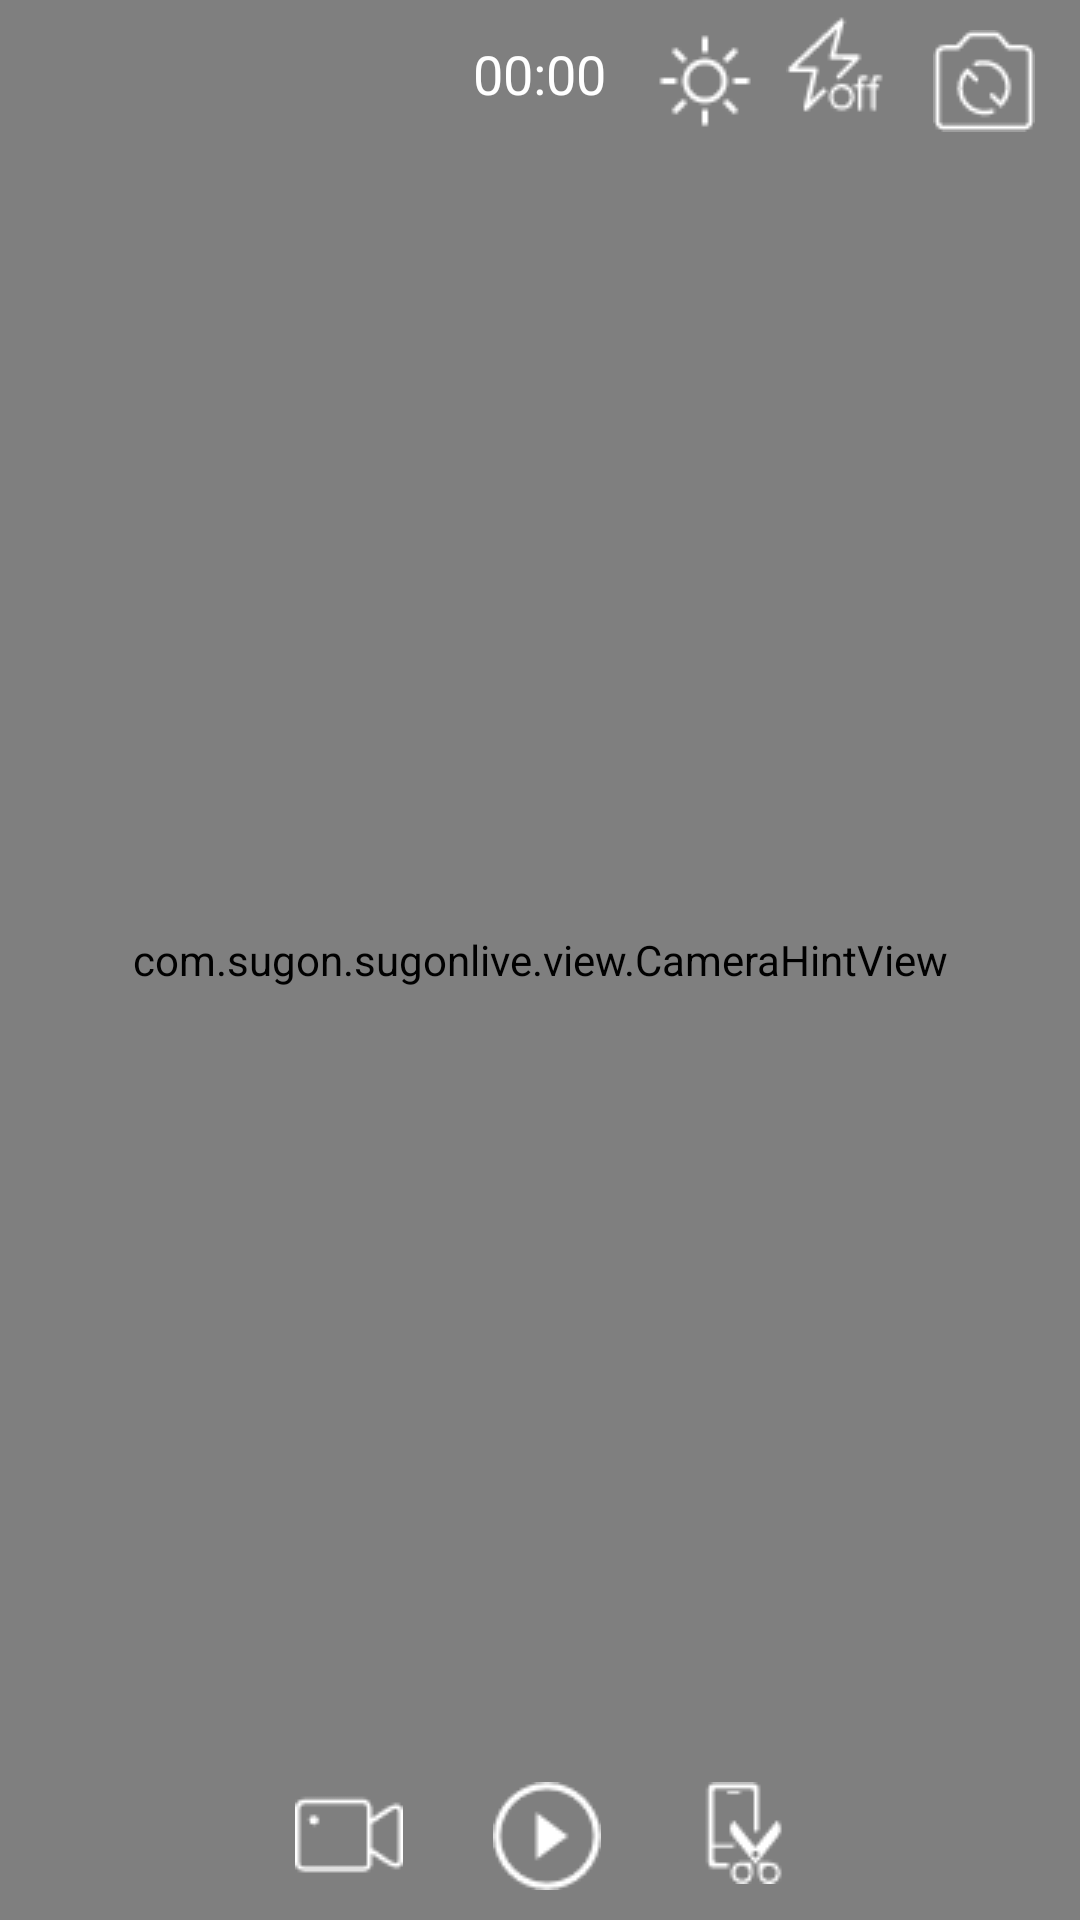

Named icons in this screenshot (1080w x 1920h) and their bounding boxes, region(x1, y1, x2, y2):
capturescreen: region(707, 1782, 782, 1884)
exposure: region(659, 35, 751, 127)
flash off: region(788, 17, 882, 112)
live start: region(493, 1782, 601, 1890)
record start: region(295, 1798, 403, 1873)
switchcam: region(933, 30, 1035, 132)
